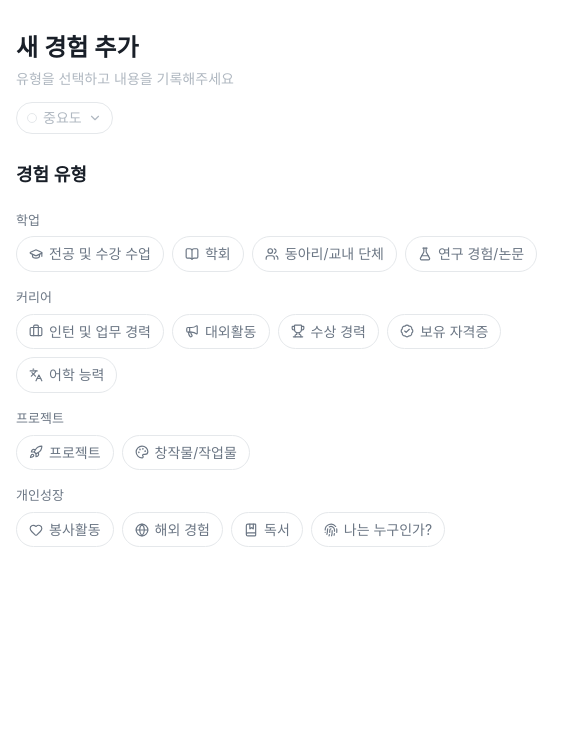
Test: FRT-54 경험명 빈 값 저장 차단 › '완료' 클릭 시 title 이 비어 있으면 저장이 차단되고 에러가 표시된다
Click the button "대외활동". click: (221, 331)
box: [172,314,270,349]
(page scrolled)
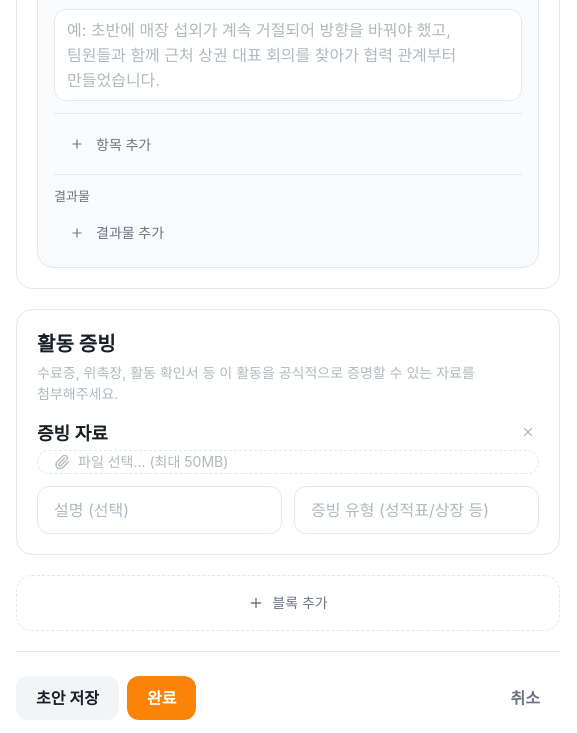
Click the button "완료". click: (162, 698)
box: [127,676,196,720]
(page scrolled)
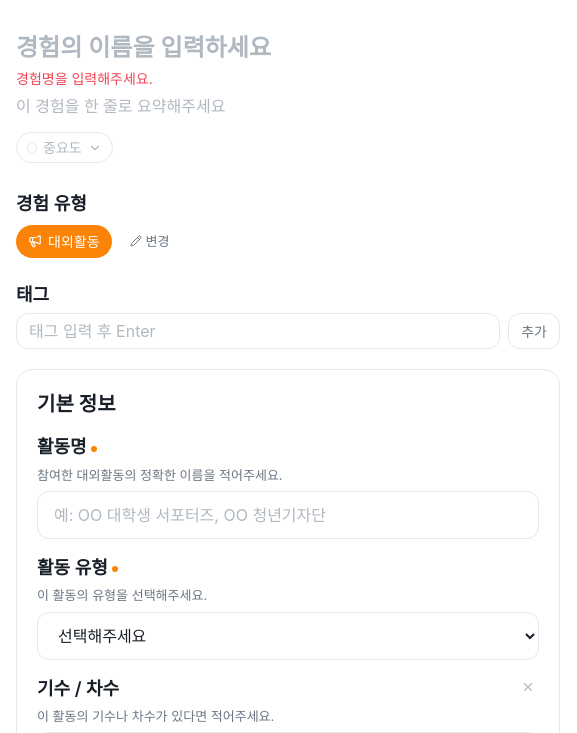
Now the text "경험명을 입력해주세요." is shown, box [16,70,153,87]
